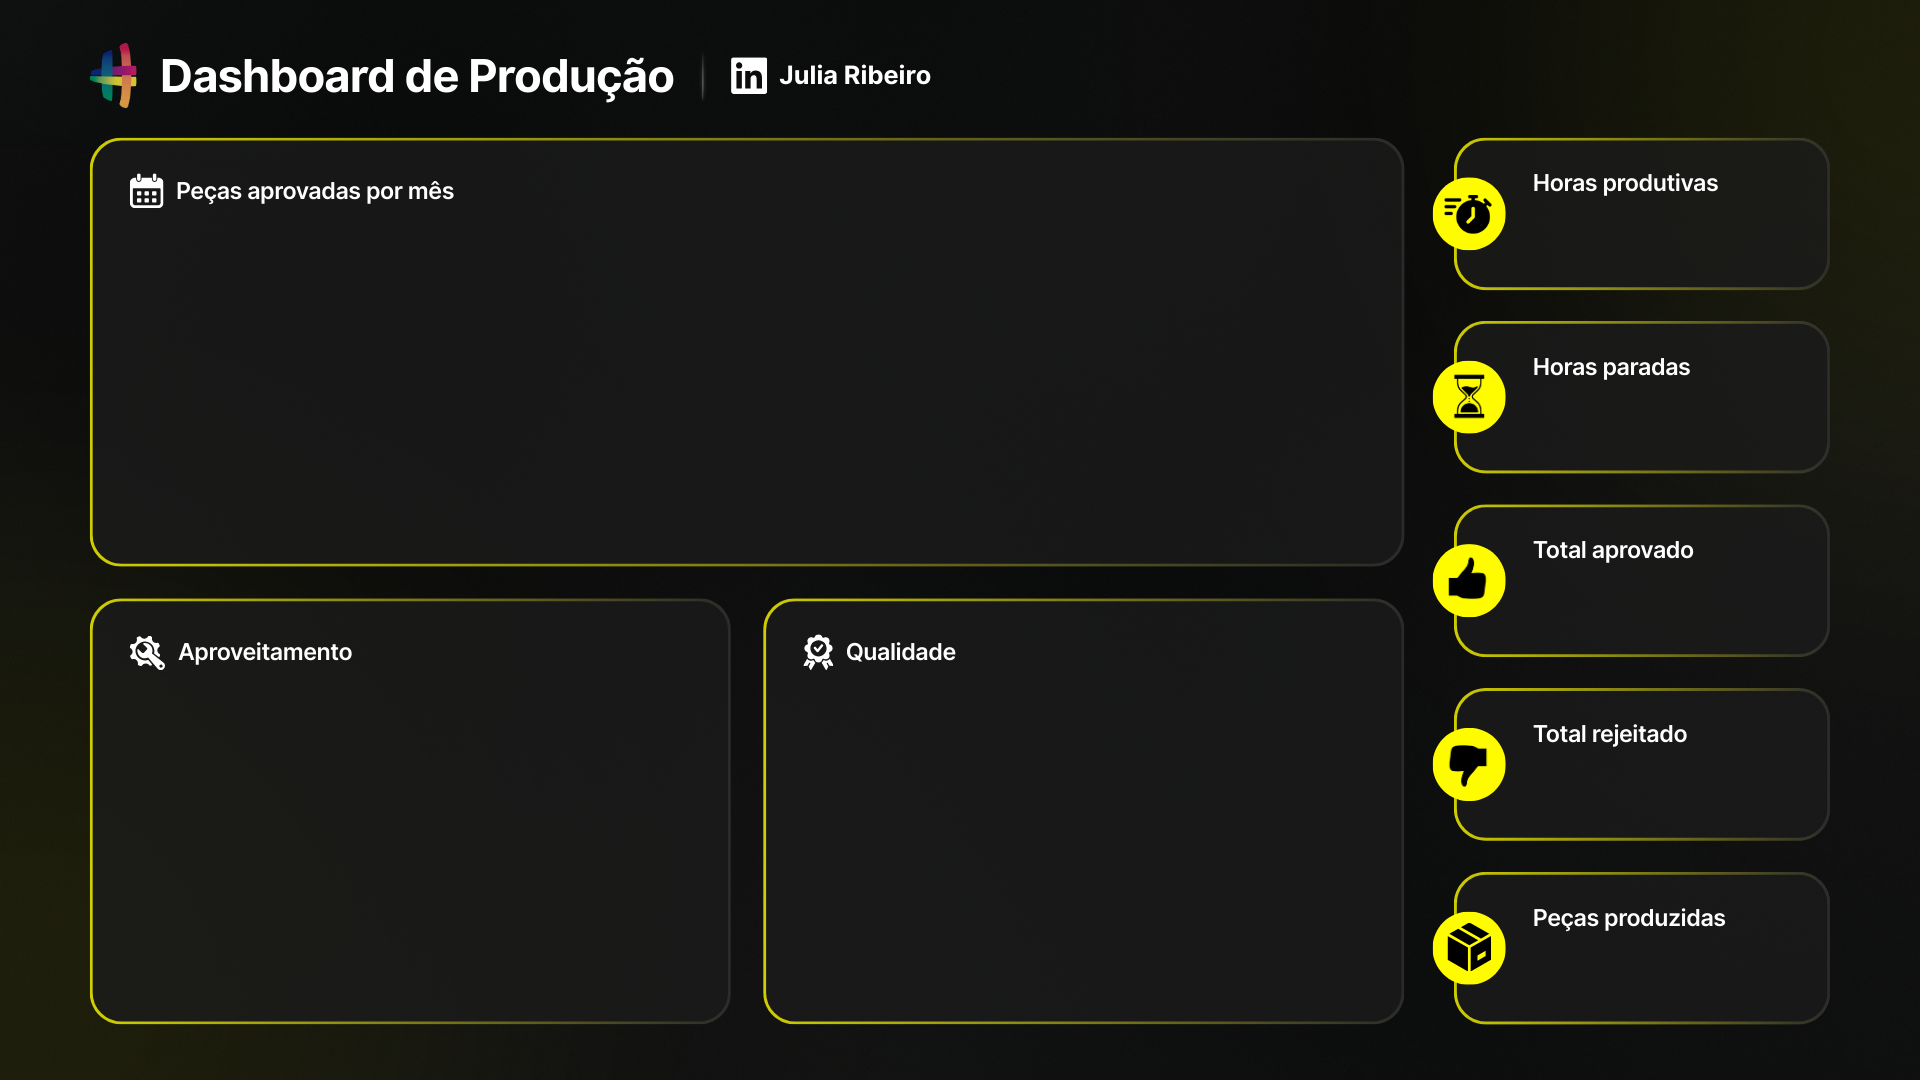

The dashboard page shown, as its layout file describes it:
{"tool":"powerbi","page":{"name":"Relatório","canvas":[1280,720],"ordinal":1},"visuals":[{"type":"areaChart","fields":{"Y":["BaseProdução.Total Aprovado"],"Category":["BaseProdução.Data Inicio.Variation.Hierarquia de datas.Mês"]},"box":[81.8,164.5,822.7,189.1],"z":0},{"type":"cardVisual","fields":{"Data":["BaseProdução.Total Aprovado"]},"box":[992.9,354.3,236.2,84.5],"z":0,"group":"g1"},{"type":"gauge","fields":{"Y":["BaseProdução.Disponibilidade"]},"box":[120,449.1,308.2,208.2],"z":1000},{"type":"cardVisual","fields":{"Data":["BaseProdução.Total Rejeitado"]},"box":[992.7,476.2,227.3,86.3],"z":1000,"group":"g1"},{"type":"gauge","fields":{"Y":["BaseProdução.% Qualidade"]},"box":[567.3,449.1,308.2,208.2],"z":2000},{"type":"cardVisual","fields":{"Data":["BaseProdução.Peças Produzidas"]},"box":[992.7,600.8,227.3,80.1],"z":2000,"group":"g1"},{"type":"cardVisual","fields":{"Data":["BaseProdução.Horas Produtivas"]},"box":[992.7,91.8,227.3,122.8],"z":3000,"group":"g1"},{"type":"slicer","fields":{"Values":["BaseProdução.Operador"]},"box":[704.5,105.5,214.5,59.1],"z":3000},{"type":"group","id":"g1","title":"Grupo 1","box":[992.7,91.8,236.4,589.1],"z":4000},{"type":"cardVisual","fields":{"Data":["BaseProdução.Horas Paradas"]},"box":[993.1,214.6,226.4,117.5],"z":4000,"group":"g1"}]}

Visuals, with their boxes in screenshot pixels (x1, y1, x2, y2), scaled from the page's 1280x720 canvas onto the 1920x1080 screenshot:
areaChart - BaseProdução.Total Aprovado x BaseProdução.Data Inicio.Variation.Hierarquia de datas.Mês: locate(123, 247, 1357, 530)
cardVisual - BaseProdução.Total Aprovado: locate(1489, 531, 1844, 658)
gauge - BaseProdução.Disponibilidade: locate(180, 674, 642, 986)
cardVisual - BaseProdução.Total Rejeitado: locate(1489, 714, 1830, 844)
gauge - BaseProdução.% Qualidade: locate(851, 674, 1313, 986)
cardVisual - BaseProdução.Peças Produzidas: locate(1489, 901, 1830, 1021)
cardVisual - BaseProdução.Horas Produtivas: locate(1489, 138, 1830, 322)
slicer - BaseProdução.Operador: locate(1057, 158, 1378, 247)
"Grupo 1" group: locate(1489, 138, 1844, 1021)
cardVisual - BaseProdução.Horas Paradas: locate(1490, 322, 1829, 498)
